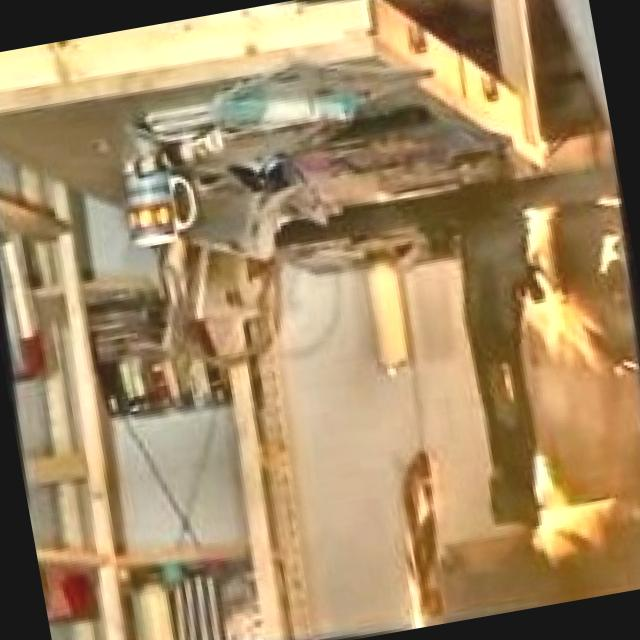fire: (443, 200, 640, 611)
